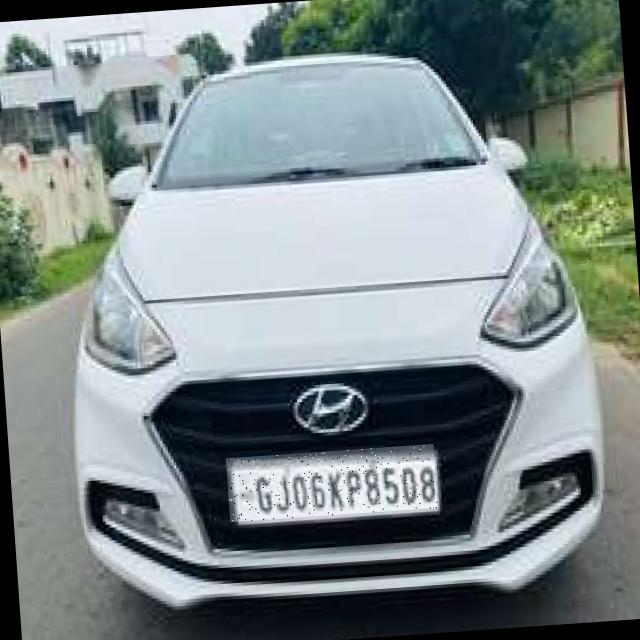Plate: (227, 445, 439, 523)
